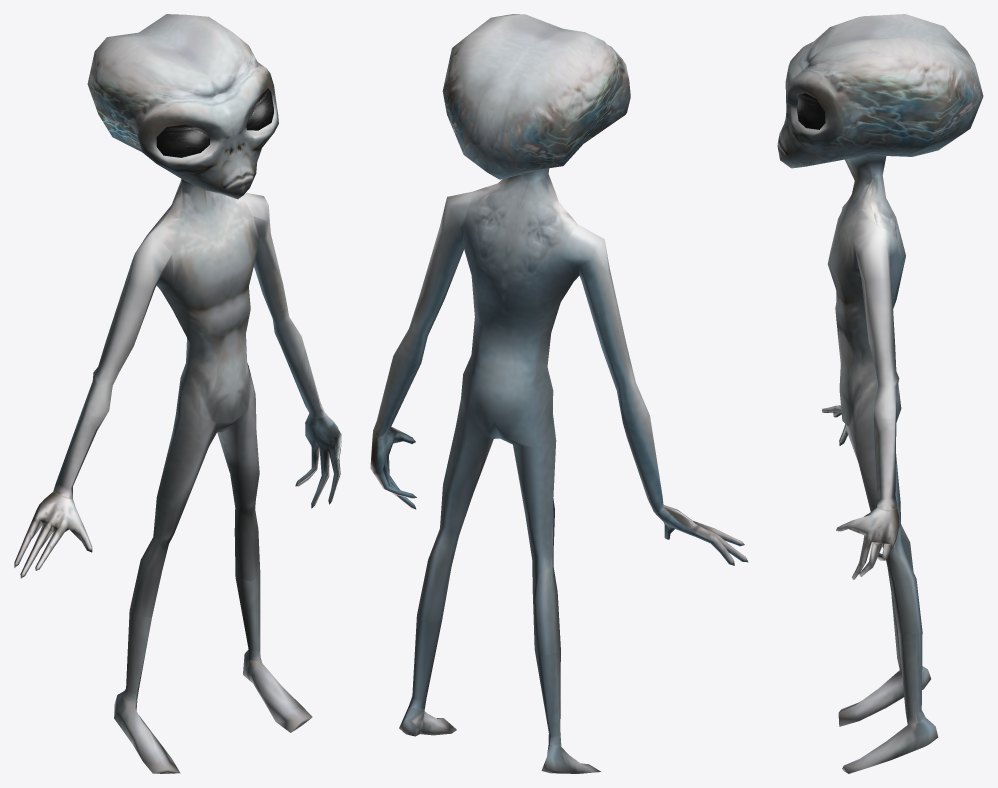
Rendered from alien.obj.
The picture shows the model from 3 angles, left to right: view 1: azimuth 30°, elevation 25°; view 2: azimuth 150°, elevation 25°; view 3: azimuth 270°, elevation 25°; orthographic projection. The views are drawn at different scales.
Size of the model in its own units: 1.52 by 3.12 by 0.8203.
Materials: 2 (2 with a texture image).
